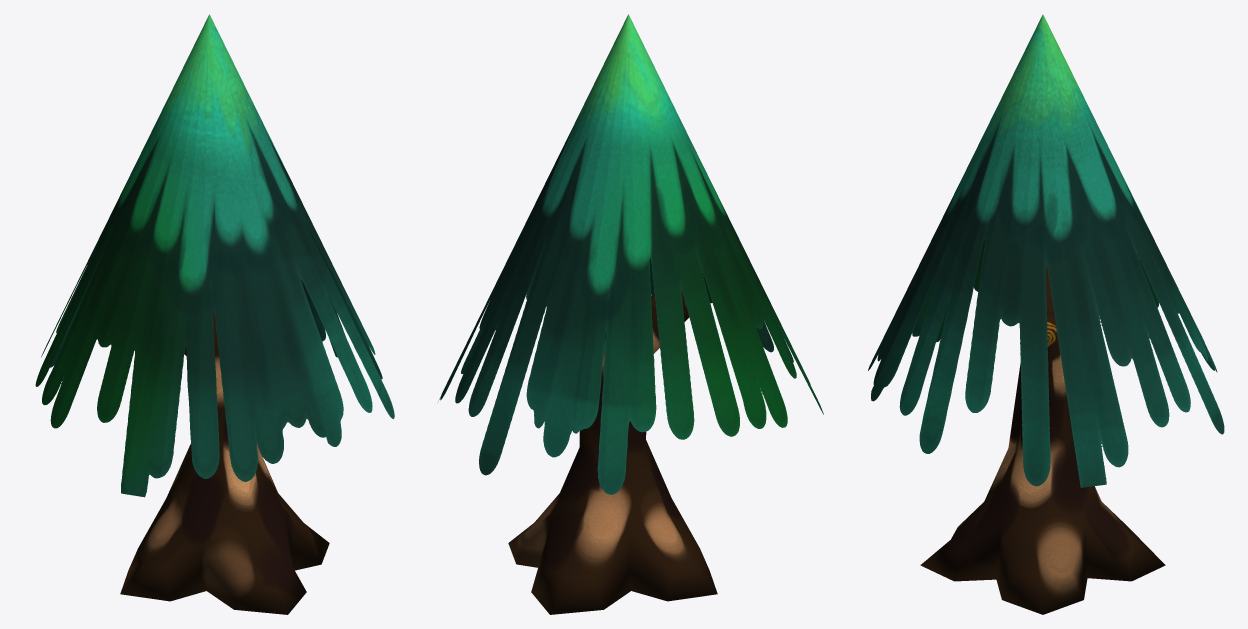
The model's file is صنوبر_شتلة.glb.
3 renders of one model, left to right at view 1: azimuth 30°, elevation 25°; view 2: azimuth 150°, elevation 25°; view 3: azimuth 270°, elevation 25°, orthographic. The views are drawn at different scales.
Parts seen in each view (by area): view 1: Object_16; view 2: Object_16; view 3: Object_16.
Part boxes in pixels (x1,y1,x2,y2): Object_16: [35, 14, 394, 614]; Object_16: [438, 14, 823, 614]; Object_16: [868, 14, 1224, 614].
Bounding box in the file's own units: 0.6715 × 1.06 × 0.6715.
1 material, 1 textured.
